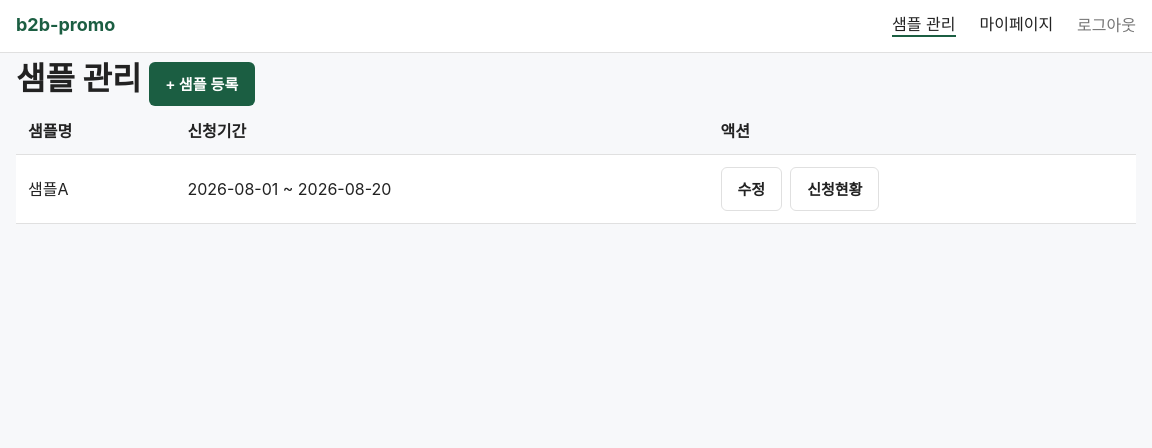
Test case: SampleAdminListPage › + 샘플 등록 버튼 클릭 시 등록 폼 화면으로 이동한다
This screenshot has width=1152, height=448.
Expected: the text "샘플A" is shown, [16,154,175,223]
Click the button "+ 샘플 등록".
click(202, 84)  # box [149,62,255,106]
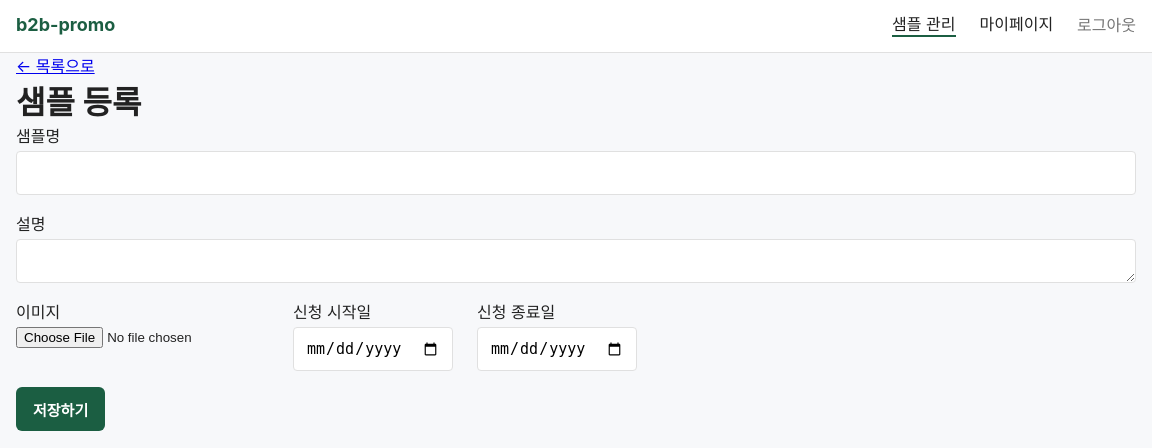
Result: the button "저장하기" is shown at [16,387,105,431]
